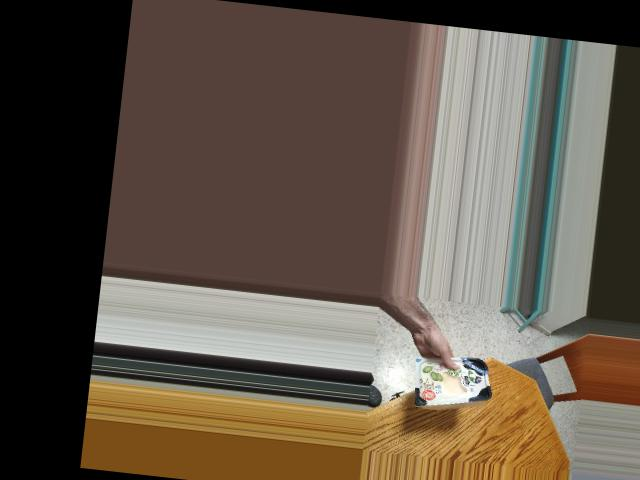cheese: (424, 345, 487, 413)
